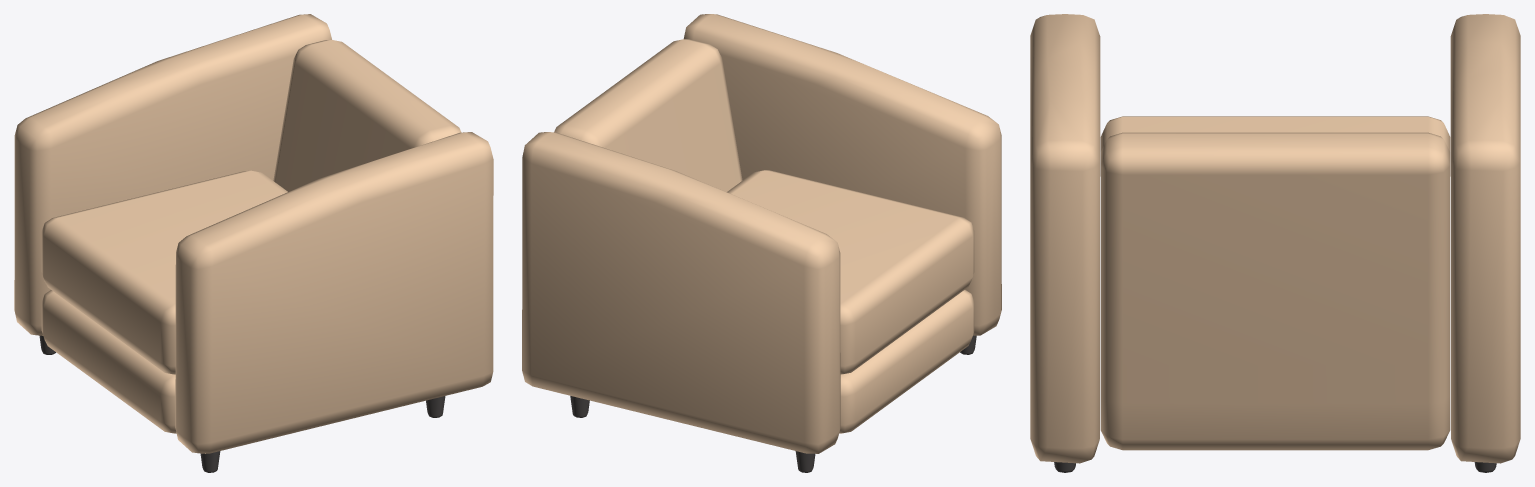
Rendered from armchair_02_white.fbx.
The picture shows the model from 3 angles, left to right: view 1: azimuth 30°, elevation 25°; view 2: azimuth 150°, elevation 25°; view 3: azimuth 270°, elevation 25°; orthographic projection. The views are drawn at different scales.
Visible parts, largest first — view 1: armchair_02_white; view 2: armchair_02_white; view 3: armchair_02_white.
Boxes of the visible parts, x1,y1,x2,y2 form: armchair_02_white: (14, 14, 493, 472); armchair_02_white: (522, 14, 1001, 472); armchair_02_white: (1030, 14, 1520, 472).
Size of the model in its own units: 93.55 by 79.46 by 100.
2 materials, 2 textured.
